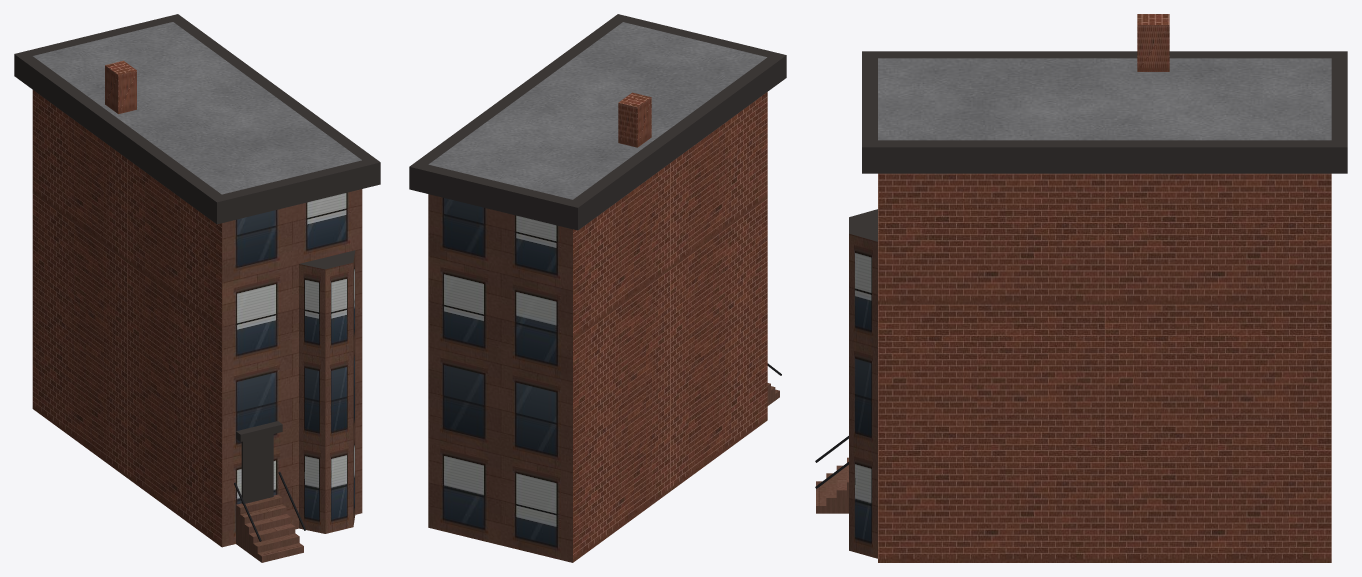
File: 002_brownstone_baywindow.glb
The picture shows the model from 3 angles, left to right: view 1: azimuth 30°, elevation 25°; view 2: azimuth 150°, elevation 25°; view 3: azimuth 270°, elevation 25°; orthographic projection. The views are drawn at different scales.
Visible parts, largest first — view 1: 002_brownstone_baywindow; view 2: 002_brownstone_baywindow; view 3: 002_brownstone_baywindow.
Boxes of the visible parts, bbox=[...] form: 002_brownstone_baywindow: bbox=[14, 14, 380, 562]; 002_brownstone_baywindow: bbox=[409, 14, 786, 562]; 002_brownstone_baywindow: bbox=[815, 14, 1347, 562].
Bounding box in the file's own units: 7 × 16 × 16.44.
6 materials, 4 textured.
